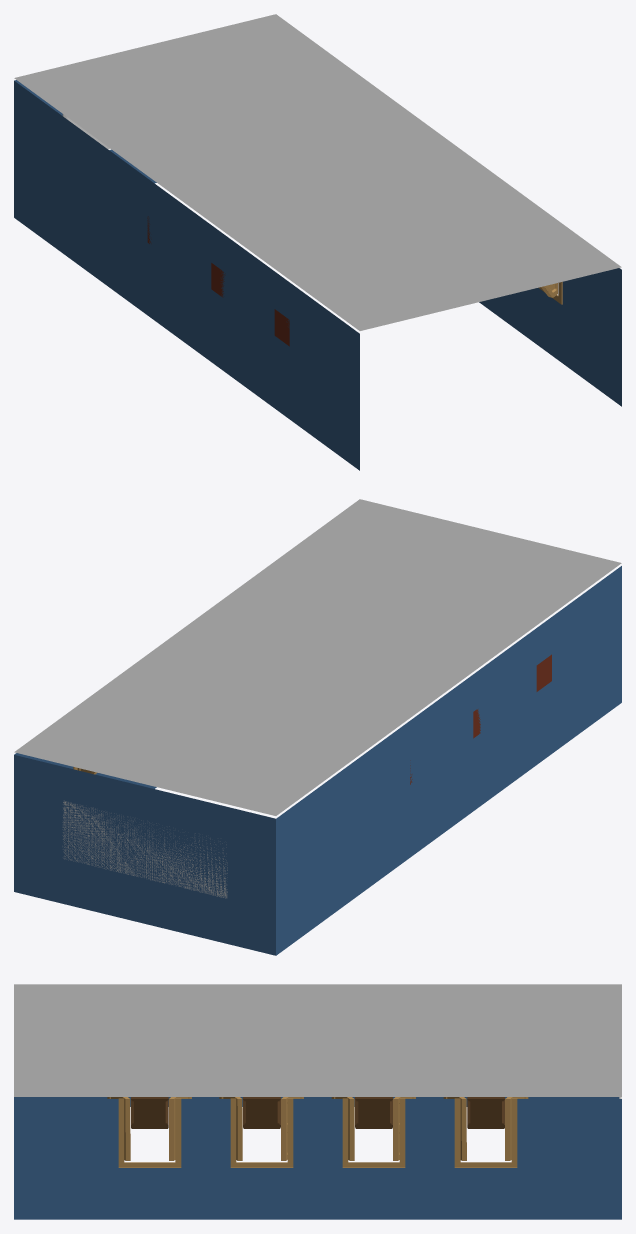
Rendered from roomNew.glb.
The picture shows the model from 3 angles, top to bottom: view 1: azimuth 30°, elevation 25°; view 2: azimuth 150°, elevation 25°; view 3: azimuth 270°, elevation 25°; orthographic projection. The views are drawn at different scales.
Visible parts, largest first — view 1: Floor, PareteDx, PareteSx, spillatori2; view 2: Floor, PareteDx, PareteFronte, pICTURE, spillatori2; view 3: Floor, PareteSx, ContornoPorta, tables, PareteDx, dOOR1, dOOR2, dOOR8, dOOR4, dOOR5, dOOR6, dOOR7 (+1 smaller).
Part boxes in pixels (box(x1,y1,x2,y2)): Floor: box(14, 14, 621, 330); PareteDx: box(14, 81, 359, 470); PareteSx: box(479, 268, 621, 406); spillatori2: box(147, 216, 289, 346); Floor: box(14, 499, 621, 815); PareteDx: box(276, 566, 621, 955); PareteFronte: box(14, 755, 275, 955); pICTURE: box(62, 800, 227, 898); spillatori2: box(410, 654, 551, 784); Floor: box(14, 984, 621, 1096); PareteSx: box(14, 1099, 621, 1219); ContornoPorta: box(118, 1098, 517, 1167); tables: box(131, 1097, 504, 1128); PareteDx: box(14, 1097, 619, 1106); dOOR1: box(505, 1097, 528, 1160); dOOR2: box(443, 1097, 466, 1160); dOOR8: box(107, 1097, 130, 1160); dOOR4: box(331, 1097, 354, 1160); dOOR5: box(281, 1097, 303, 1160); dOOR6: box(219, 1097, 242, 1160); dOOR7: box(169, 1097, 191, 1160).
Size of the model in its own units: 7 by 3.56 by 16.
